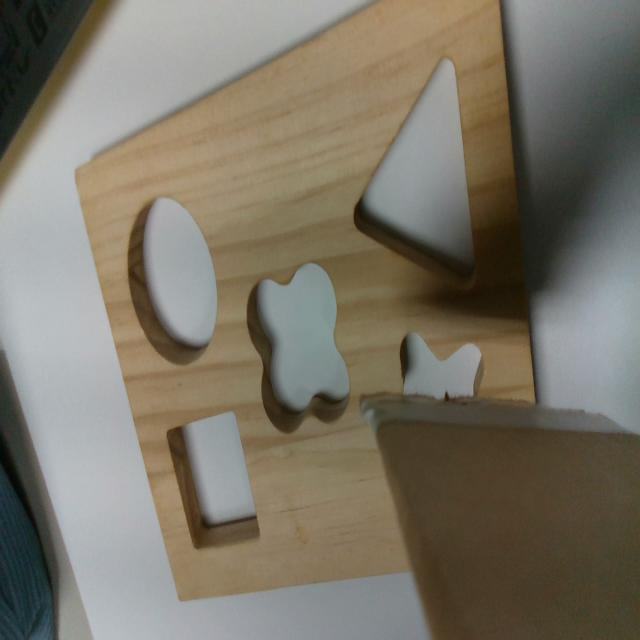circle: (131, 197, 217, 365)
flower: (249, 261, 350, 433)
square: (166, 408, 262, 555)
star: (400, 333, 483, 398)
triangle: (353, 52, 480, 292)
